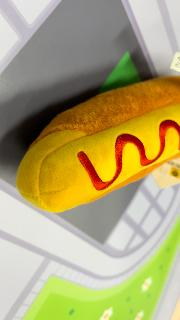hotdog: (15, 76, 179, 214)
